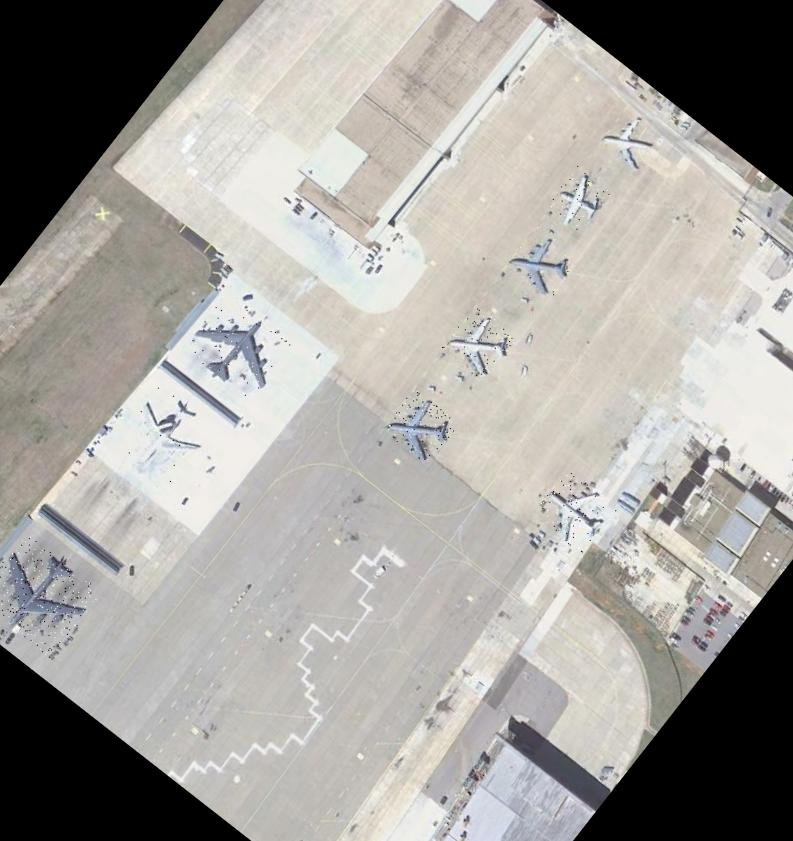A11: (530, 468, 618, 554), (439, 303, 518, 383)
A14: (504, 224, 581, 300), (381, 388, 458, 464)
A2: (545, 164, 612, 234)
A7: (111, 381, 218, 489)
A8: (0, 531, 102, 658), (182, 293, 292, 400)
